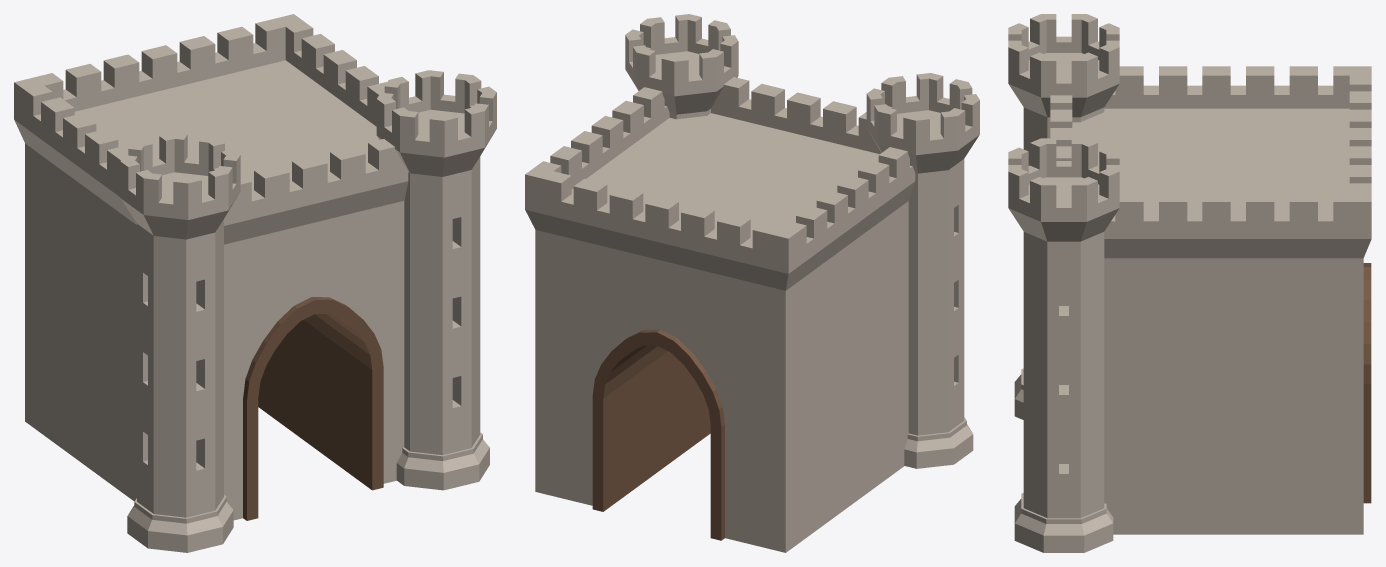
The model's file is SPW_Medieval_Castle_02.glb.
3 views of the same model, side by side, from view 1: azimuth 30°, elevation 25°; view 2: azimuth 150°, elevation 25°; view 3: azimuth 270°, elevation 25° (orthographic). The views are drawn at different scales.
Visible parts, largest first — view 1: SPW_Medieval_Castle_02; view 2: SPW_Medieval_Castle_02; view 3: SPW_Medieval_Castle_02.
Boxes of the visible parts, box(x1,y1,x2,y2) form: SPW_Medieval_Castle_02: box(14, 14, 496, 552); SPW_Medieval_Castle_02: box(525, 14, 979, 552); SPW_Medieval_Castle_02: box(1008, 14, 1371, 552).
Size of the model in its own units: 7.44 by 7.5 by 6.67.
1 material, 1 textured.
